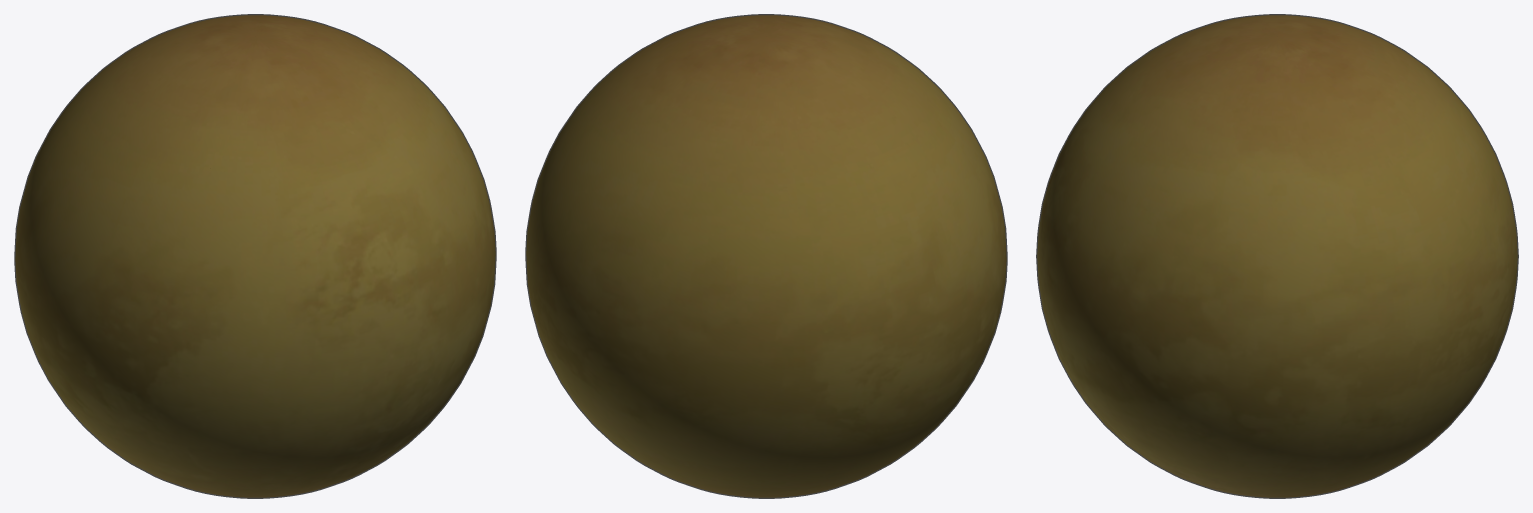
The model's file is titan.gltf.
The picture shows the model from 3 angles, left to right: view 1: azimuth 30°, elevation 25°; view 2: azimuth 150°, elevation 25°; view 3: azimuth 270°, elevation 25°; orthographic projection.
Visible parts, largest first — view 1: Sphere.001, Sphere; view 2: Sphere.001, Sphere; view 3: Sphere.001, Sphere.
Boxes of the visible parts, x1,y1,x2,y2 form: Sphere.001: (14,14,496,498); Sphere: (15,15,495,497); Sphere.001: (525,14,1007,498); Sphere: (526,15,1006,497); Sphere.001: (1036,14,1518,498); Sphere: (1037,15,1517,497).
Size of the model in its own units: 1.98 by 2.01 by 1.98.
2 materials, 2 textured.
